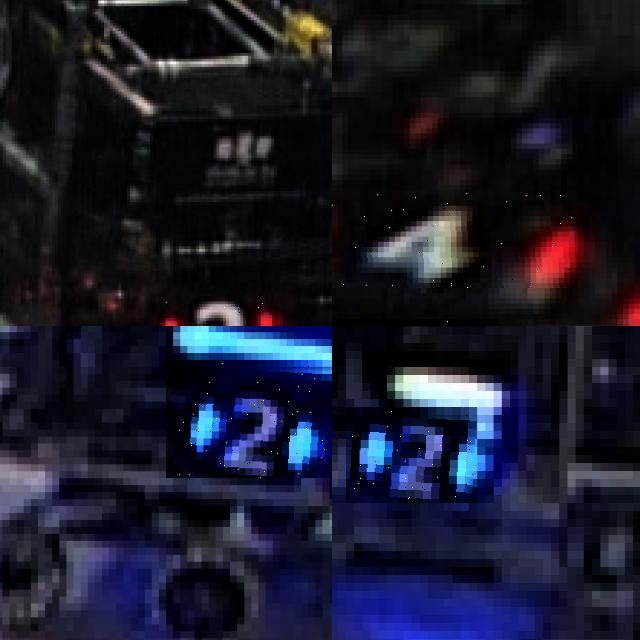B2: (166, 359, 332, 478), (346, 407, 477, 503)
R2: (158, 293, 282, 326)
R4: (332, 190, 578, 288)
